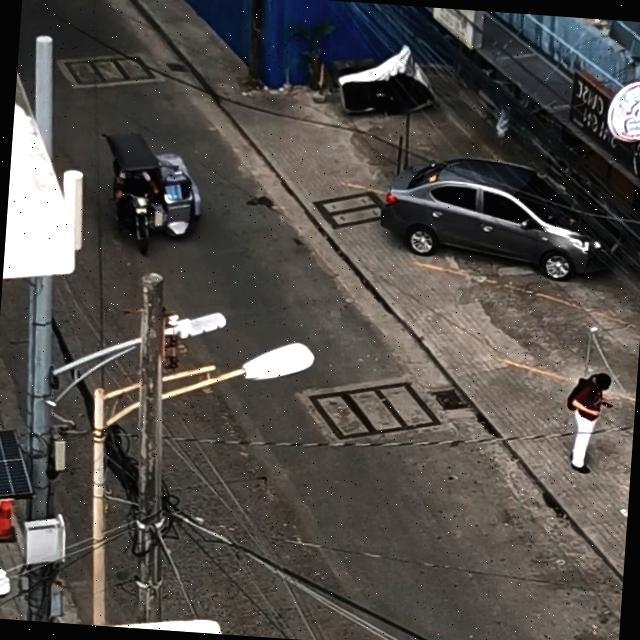Tricycle: (102, 130, 212, 252)
